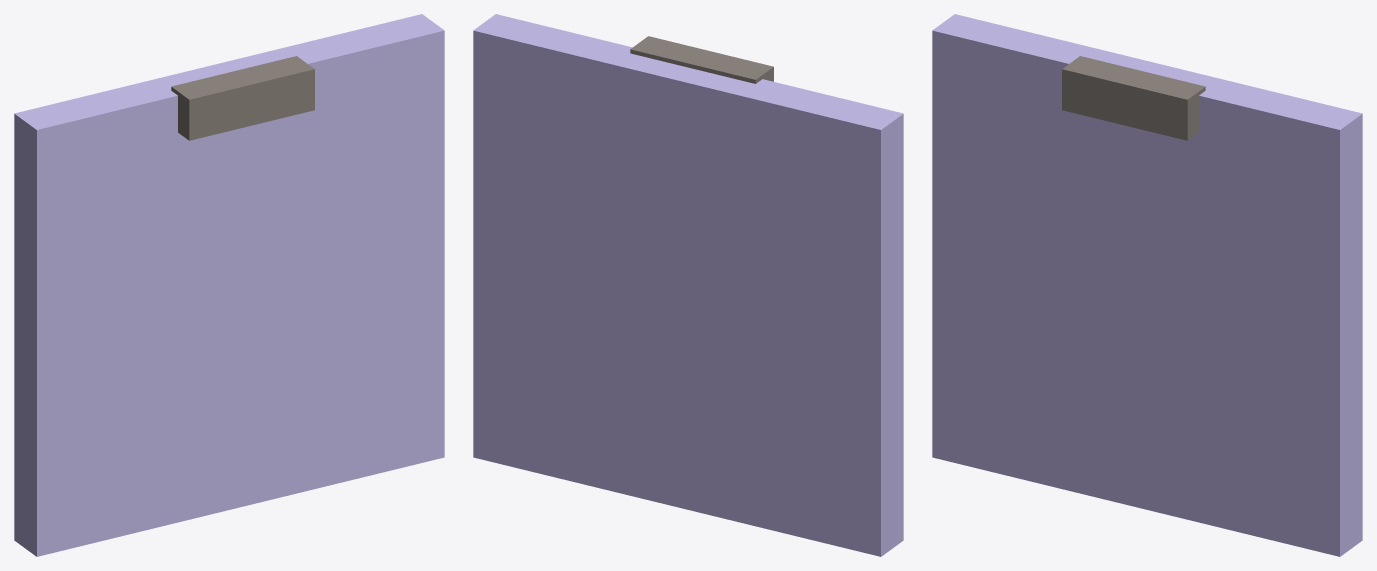
The model's file is outfit_cape.glb.
3 views of the same model, side by side, from view 1: azimuth 30°, elevation 25°; view 2: azimuth 150°, elevation 25°; view 3: azimuth 330°, elevation 25° (orthographic).
Visible parts, largest first — view 1: outfit_cape; view 2: outfit_cape; view 3: outfit_cape.
Boxes of the visible parts, x1,y1,x2,y2 form: outfit_cape: (14, 14, 444, 556); outfit_cape: (473, 14, 903, 556); outfit_cape: (932, 14, 1362, 556).
Size of the model in its own units: 26 by 26.25 by 3.75.
